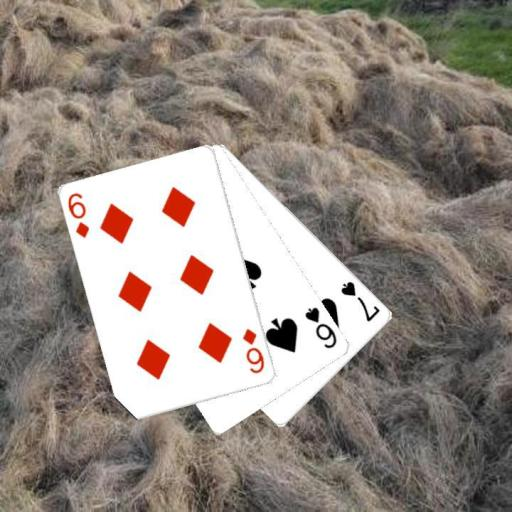6D: (240, 326, 267, 376), (65, 190, 91, 240)
6S: (302, 304, 339, 351)
7S: (338, 278, 383, 324)
